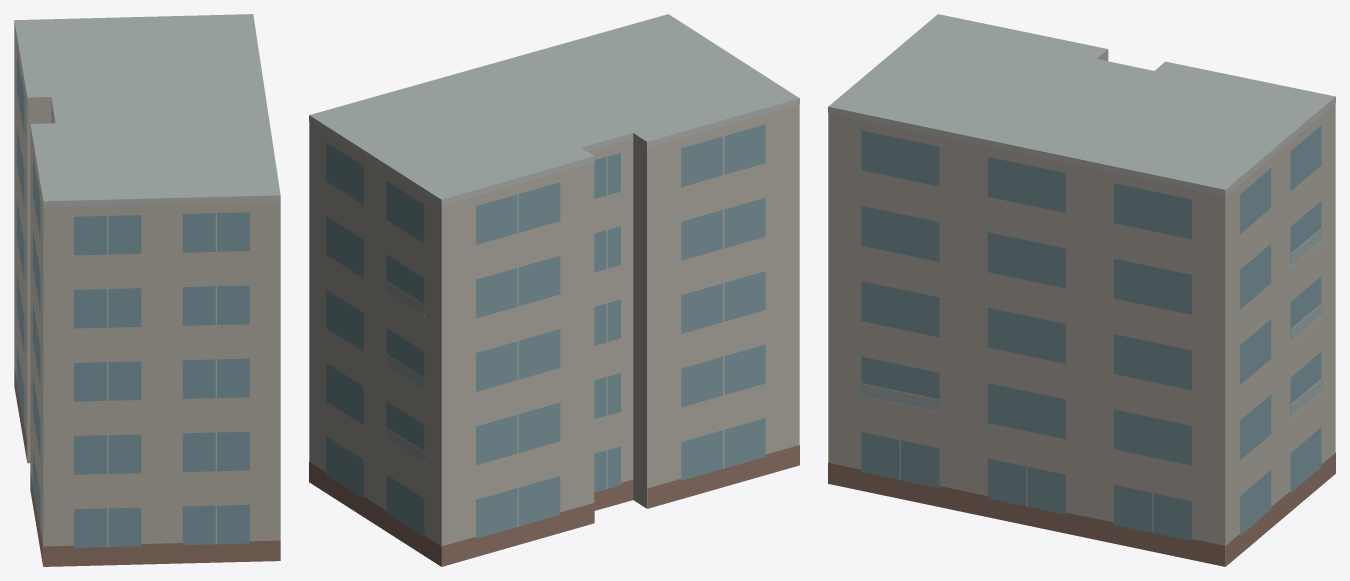
File: survey-upis-32894324.glb
3 renders of one model, left to right at view 1: azimuth 30°, elevation 25°; view 2: azimuth 150°, elevation 25°; view 3: azimuth 270°, elevation 25°, orthographic. The views are drawn at different scales.
Visible parts, largest first — view 1: survey-upis-32894324.tmp; view 2: survey-upis-32894324.tmp; view 3: survey-upis-32894324.tmp.
Part boxes in pixels (<box>): survey-upis-32894324.tmp: <box>14,14,280,566</box>; survey-upis-32894324.tmp: <box>309,14,799,566</box>; survey-upis-32894324.tmp: <box>828,14,1335,566</box>.
Bounding box in the file's own units: 14.21 × 14.2 × 17.33.
